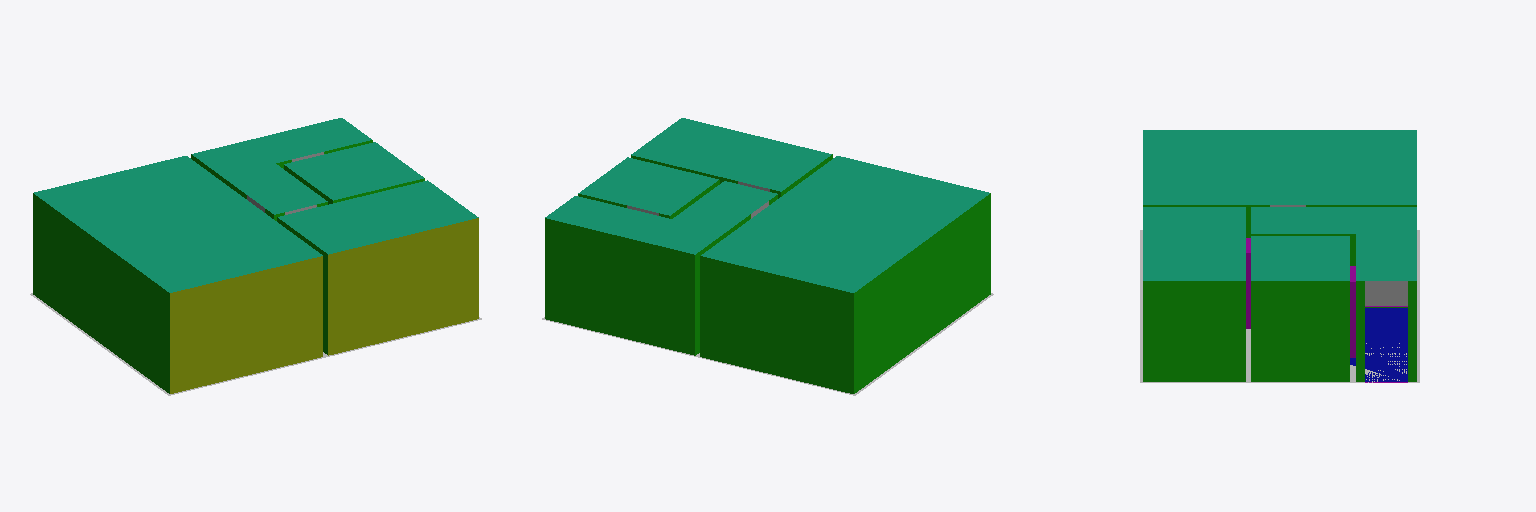
The picture shows the model from 3 angles: view 1: azimuth 30°, elevation 25°; view 2: azimuth 150°, elevation 25°; view 3: azimuth 270°, elevation 25°; orthographic projection.
Visible parts, largest first — view 1: hall_Plane.018, kitchen_Plane.017, hallway_Plane.008, bathroom_Plane.016, source_floorplan2_Plane.009; view 2: hall_Plane.018, hallway_Plane.008, kitchen_Plane.017, bathroom_Plane.016, source_floorplan2_Plane.009; view 3: hall_Plane.018, kitchen_Plane.017, bathroom_Plane.016, hallway_Plane.008, source_floorplan2_Plane.009.
Boxes of the visible parts, box(x1,y1,x2,y2) form: hall_Plane.018: box(33, 156, 322, 393); kitchen_Plane.017: box(277, 180, 478, 355); hallway_Plane.008: box(191, 118, 372, 220); bathroom_Plane.016: box(284, 142, 424, 204); source_floorplan2_Plane.009: box(30, 293, 481, 395); hall_Plane.018: box(700, 156, 990, 393); hallway_Plane.008: box(545, 181, 777, 355); kitchen_Plane.017: box(631, 118, 832, 198); bathroom_Plane.016: box(578, 157, 719, 218); source_floorplan2_Plane.009: box(542, 293, 993, 395); hall_Plane.018: box(1143, 130, 1416, 237); kitchen_Plane.017: box(1143, 207, 1250, 381); bathroom_Plane.016: box(1251, 236, 1355, 381); hallway_Plane.008: box(1251, 207, 1416, 382); source_floorplan2_Plane.009: box(1140, 230, 1419, 382).
Bounding box in the file's own units: 13 × 4 × 10.